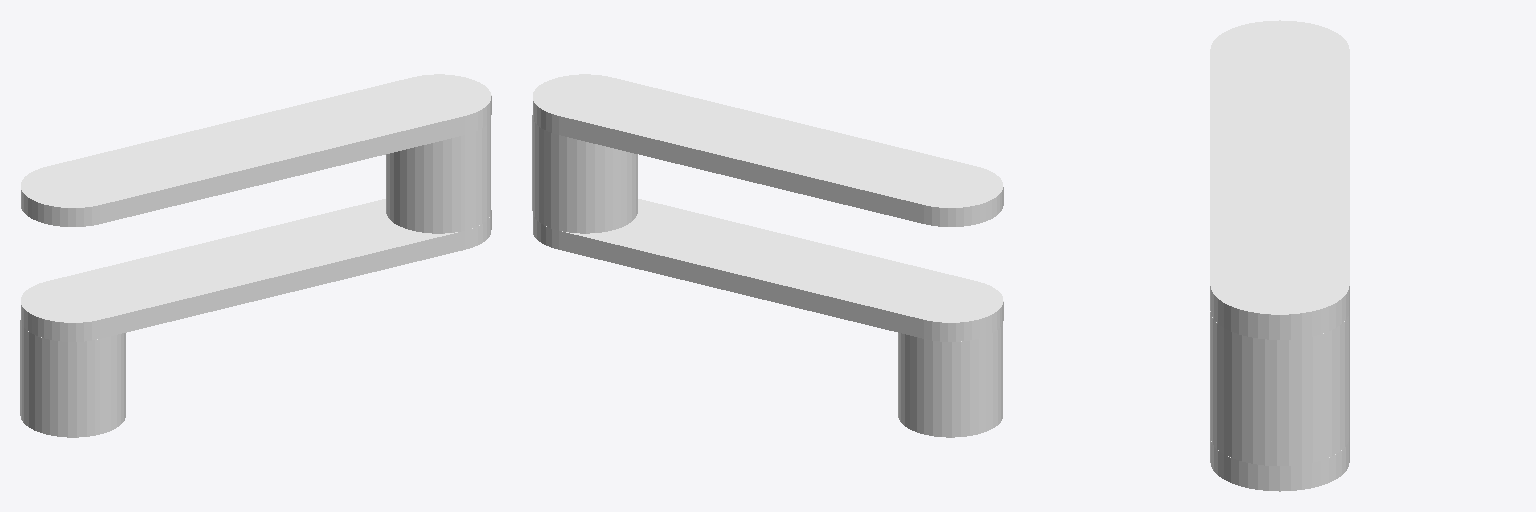
robot.urdf — eyou_test:
<?xml version="1.0" encoding="utf-8"?>
<!-- This URDF was automatically created by SolidWorks to URDF Exporter! Originally created by Stephen Brawner (brawner@gmail.com) 
     Commit Version: 1.6.0-4-g7f85cfe  Build Version: 1.6.7995.38578
     For more information, please see http://wiki.ros.org/sw_urdf_exporter -->
<robot
  name="eyou_test">
  <link
    name="base_link">
    <inertial>
      <origin
        xyz="0 4.87271479064922E-19 0.025"
        rpy="0 0 0" />
      <mass
        value="0.098174770424681" />
      <inertia
        ixx="3.5792885050665E-05"
        ixy="0"
        ixz="-1.18574757816703E-37"
        iyy="3.5792885050665E-05"
        iyz="2.86854741572313E-37"
        izz="3.06796157577128E-05" />
    </inertial>
    <visual>
      <origin
        xyz="0 0 0"
        rpy="0 0 0" />
      <geometry>
        <mesh
          filename="package://eyou_test_ros2_control/urdf/base_link.STL" />
      </geometry>
      <material
        name="">
        <color
          rgba="1 1 1 1" />
      </material>
    </visual>
    <collision>
      <origin
        xyz="0 0 0"
        rpy="0 0 0" />
      <geometry>
        <mesh
          filename="package://eyou_test_ros2_control/urdf/base_link.STL" />
      </geometry>
    </collision>
  </link>
  <link
    name="link_1">
    <inertial>
      <origin
        xyz="0.145073639685149 -2.34231672767898E-20 0.0185220919055448"
        rpy="0 0 0" />
      <mass
        value="0.217809724509617" />
      <inertia
        ixx="6.06911379104774E-05"
        ixy="2.89495801659071E-21"
        ixz="-1.30522207489097E-21"
        iyy="0.000611207345426506"
        iyz="8.73347437482334E-22"
        izz="0.000628998413091951" />
    </inertial>
    <visual>
      <origin
        xyz="0 0 0"
        rpy="0 0 0" />
      <geometry>
        <mesh
          filename="package://eyou_test_ros2_control/urdf/link_1.STL" />
      </geometry>
      <material
        name="">
        <color
          rgba="1 1 1 1" />
      </material>
    </visual>
    <collision>
      <origin
        xyz="0 0 0"
        rpy="0 0 0" />
      <geometry>
        <mesh
          filename="package://eyou_test_ros2_control/urdf/link_1.STL" />
      </geometry>
    </collision>
  </link>
  <joint
    name="motor_joint_13"
    type="revolute">
    <origin
      xyz="0 0 0.05"
      rpy="0 0 0" />
    <parent
      link="base_link" />
    <child
      link="link_1" />
    <axis
      xyz="0 0 1" />
    <limit
      lower="-3.14"
      upper="3.14"
      effort="10"
      velocity="10" />
  </joint>
  <link
    name="link_2">
    <inertial>
      <origin
        xyz="0.0992264907669502 0.017572859092566 0.00499999999999999"
        rpy="0 0 0" />
      <mass
        value="0.119634954084936" />
      <inertia
        ixx="2.48982528598124E-05"
        ixy="-3.13438599634792E-21"
        ixz="-4.32236335917811E-21"
        iyy="0.000575414460375842"
        iyz="8.97854924089677E-24"
        izz="0.000598318797334238" />
    </inertial>
    <visual>
      <origin
        xyz="0 0 0"
        rpy="0 0 0" />
      <geometry>
        <mesh
          filename="package://eyou_test_ros2_control/urdf/link_2.STL" />
      </geometry>
      <material
        name="">
        <color
          rgba="1 1 1 1" />
      </material>
    </visual>
    <collision>
      <origin
        xyz="0 0 0"
        rpy="0 0 0" />
      <geometry>
        <mesh
          filename="package://eyou_test_ros2_control/urdf/link_2.STL" />
      </geometry>
    </collision>
  </link>
  <joint
    name="motor_joint_10"
    type="revolute">
    <origin
      xyz="0.19923 0.017573 0.06"
      rpy="0 0 3.1416" />
    <parent
      link="link_1" />
    <child
      link="link_2" />
    <axis
      xyz="0 0 1" />
    <limit
      lower="-3.14"
      upper="3.14"
      effort="10"
      velocity="10" />
  </joint>
  <!-- ====================== ros2_control 硬件接口配置 ====================== -->
  <ros2_control name="EyouSystem" type="system">
    <hardware>
      <!-- 硬件插件名称（对应plugin_description.xml） -->
      <plugin>eyou_test_ros2_control/EyouSystem</plugin>
      <!-- 硬件参数：CAN接口和电机ID -->
      <param name="can_interface">can0</param>
      <param name="motor_ids">13,10</param>

      <!-- 电机13的独立参数 (ID=13) -->
      <param name="motor_13_speed">8.0</param>       
      <param name="motor_13_torque">1.0</param>       
      <param name="motor_13_accel">32.0</param>      
      <param name="motor_13_decel">32.0</param>      
      
      <!-- 电机10的独立参数 (ID=10) -->
      <param name="motor_10_speed">8.0</param>       
      <param name="motor_10_torque">8.0</param>      
      <param name="motor_10_accel">32.0</param>     
      <param name="motor_10_decel">32.0</param>      
    </hardware>

    <!-- 电机1（ID 13）的接口定义 -->
    <joint name="motor_joint_13">
      <command_interface name="position"/>  
      <state_interface name="position"/>    
      <state_interface name="velocity"/>    
      <state_interface name="effort"/>     
    </joint>

    <!-- 电机2（ID 10）的接口定义 -->
    <joint name="motor_joint_10">
      <command_interface name="position"/>
      <state_interface name="position"/>
      <state_interface name="velocity"/>
      <state_interface name="effort"/>
    </joint>
  </ros2_control>
</robot>

--- Facts derived from the render (not from the file) ---
The picture shows the robot from 3 angles, left to right: view 1: azimuth 30°, elevation 25°; view 2: azimuth 150°, elevation 25°; view 3: azimuth 270°, elevation 25°; orthographic projection.
Robot: eyou_test — 3 links, 2 joints (2 revolute); root link base_link; default pose: all joints at 0.
Links seen in each view (by area): view 1: link_1, link_2, base_link; view 2: link_1, link_2, base_link; view 3: link_2, link_1.
Boxes of the visible links, x1,y1,x2,y2 form: link_1: (21,120,491,341); link_2: (21,74,491,226); base_link: (20,320,125,437); link_1: (532,115,1003,341); link_2: (533,74,1003,226); base_link: (898,324,1002,437); link_2: (1210,20,1349,339); link_1: (1210,311,1349,491).
Size in the robot's own frame: 0.25 by 0.05 by 0.12 metres.
3 mesh visuals loaded from 3 distinct referenced files (3 binary STL).
